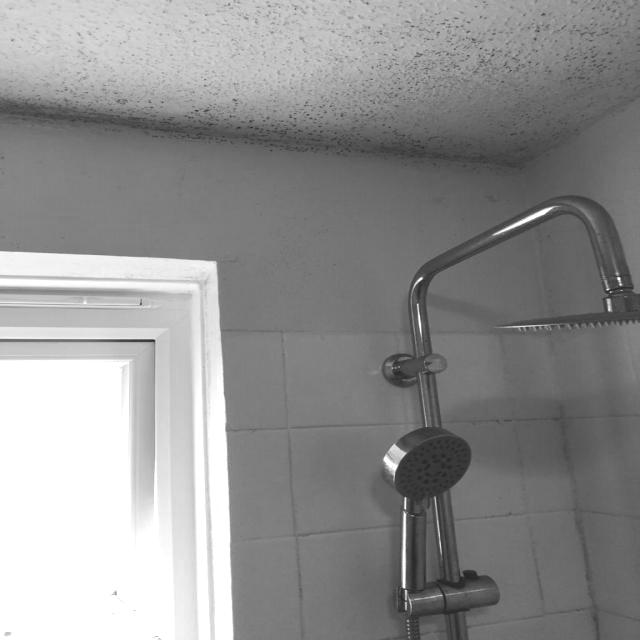stain marks: (549, 0, 638, 94), (408, 0, 486, 106), (5, 81, 148, 138), (285, 110, 437, 163), (332, 0, 404, 110), (484, 2, 552, 116), (150, 99, 282, 150), (438, 126, 540, 184)
